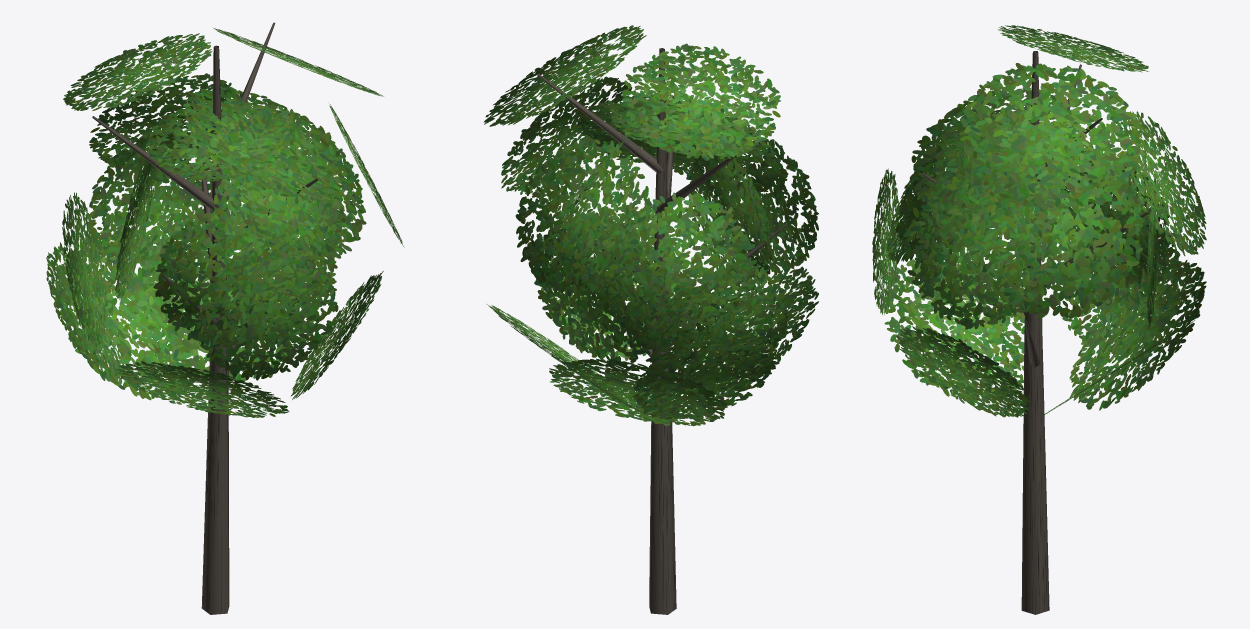
Rendered from Linden_LOD1.fbx.
The picture shows the model from 3 angles, left to right: view 1: azimuth 30°, elevation 25°; view 2: azimuth 150°, elevation 25°; view 3: azimuth 270°, elevation 25°; orthographic projection.
Parts seen in each view (by area): view 1: Linden_LOD1; view 2: Linden_LOD1; view 3: Linden_LOD1.
Part boxes in pixels (box(x1,y1,x2,y2)): Linden_LOD1: box(46, 22, 404, 614); Linden_LOD1: box(484, 25, 818, 614); Linden_LOD1: box(872, 25, 1206, 614).
Size of the model in its own units: 10.67 by 17.37 by 10.11.
1 material, 1 textured.
